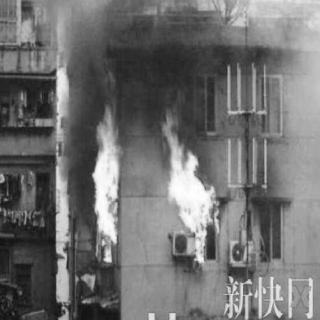Fire: (84, 57, 130, 271)
